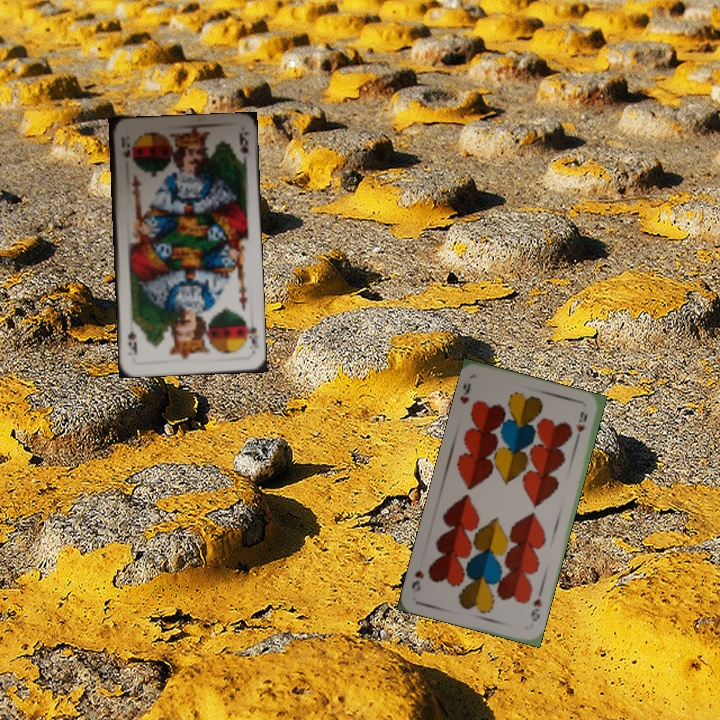H9: (527, 589, 545, 624), (456, 378, 474, 406)
SK: (241, 316, 259, 347), (117, 132, 133, 161)
